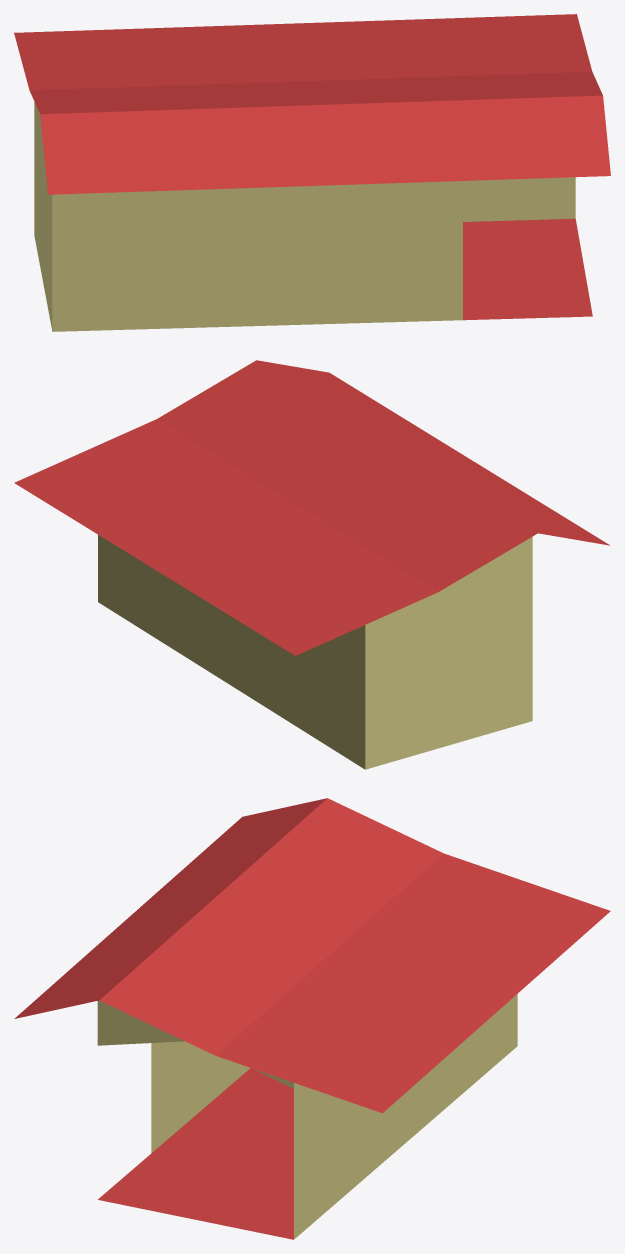
The picture shows the model from 3 angles, top to bottom: view 1: azimuth 30°, elevation 25°; view 2: azimuth 150°, elevation 25°; view 3: azimuth 270°, elevation 25°; orthographic projection. The views are drawn at different scales.
Size of the model in its own units: 24.72 by 22.54 by 8.52.
